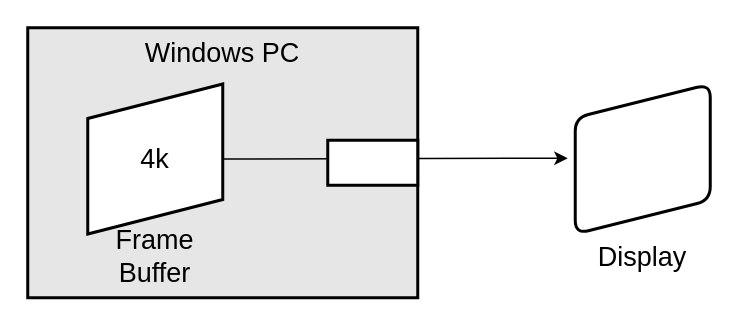
The diagram is 737 pixels wide and 324 high, and some of its shapes have lost their labels. The centre of each missing label's shape, as x and y in pixels:
"2k" goes at [642,158].
"GPU" goes at [372,162].
